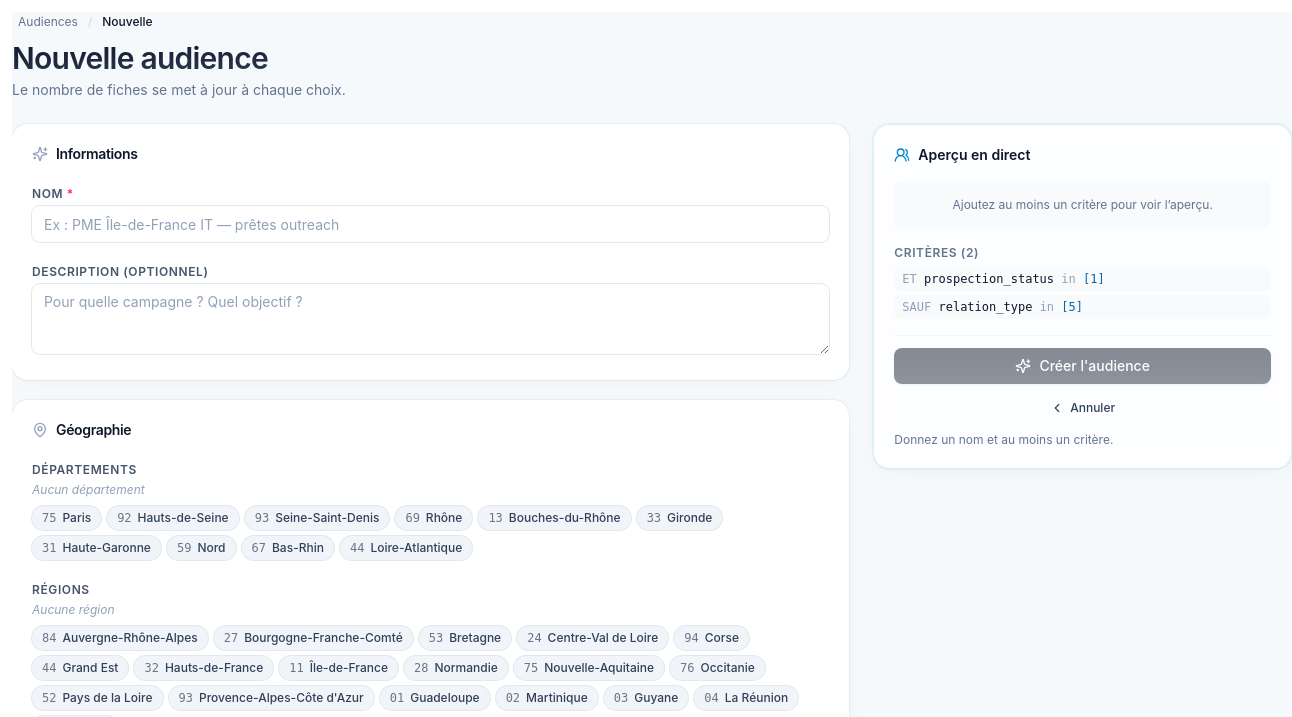
Test case: AudienceBuilderPage — parcours › aperçu en échec : l’écran affiche le message du serveur, jamais un compte faux
The width and height of the screenshot is (1292, 717).
Click the button "75 Paris". click: [67, 518]
box: [32,506,101,530]
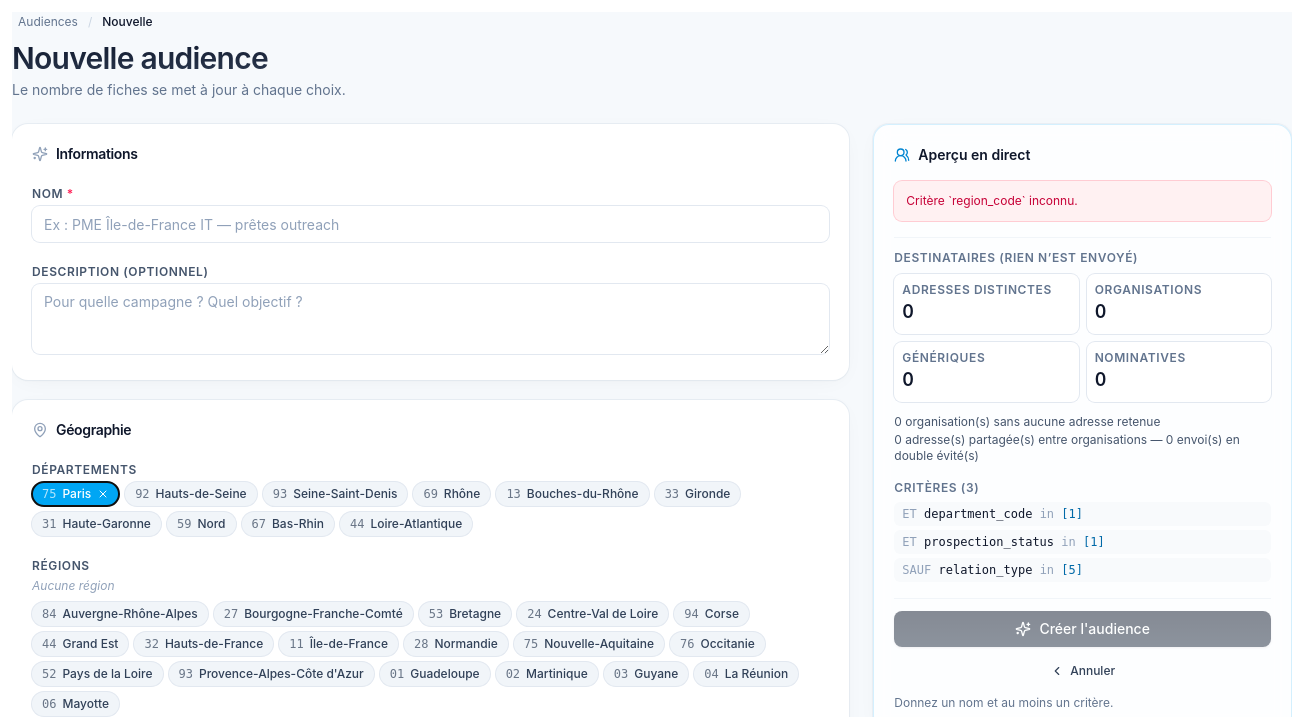
Check: the text "Critère `region_code` inconnu." is shown, box [894,181,1271,221]
